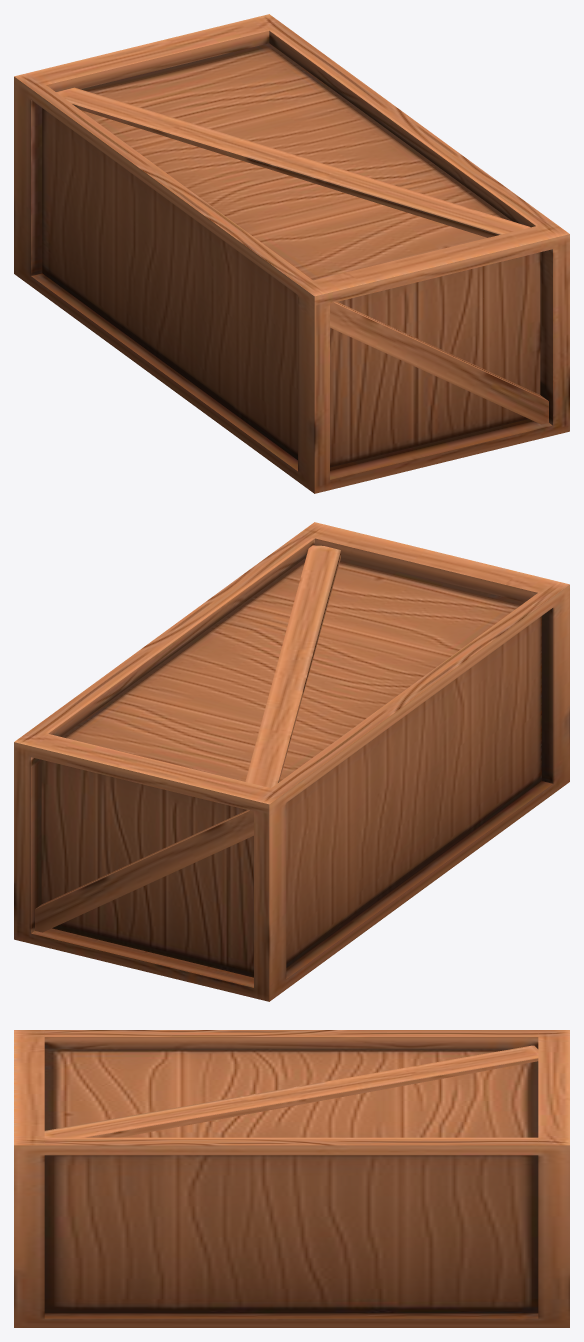
The model's file is SM_Stylized_Box_var1.glb.
3 renders of one model, top to bottom at view 1: azimuth 30°, elevation 25°; view 2: azimuth 150°, elevation 25°; view 3: azimuth 270°, elevation 25°, orthographic. The views are drawn at different scales.
Parts seen in each view (by area): view 1: SM_Stylized_Box_var1; view 2: SM_Stylized_Box_var1; view 3: SM_Stylized_Box_var1.
Boxes of the visible parts, x1,y1,x2,y2 form: SM_Stylized_Box_var1: (14,14,569,493); SM_Stylized_Box_var1: (14,522,569,1001); SM_Stylized_Box_var1: (14,1030,569,1327).
Size of the model in its own units: 0.6833 by 0.5049 by 1.39.
Materials: 1 (1 with a texture image).
